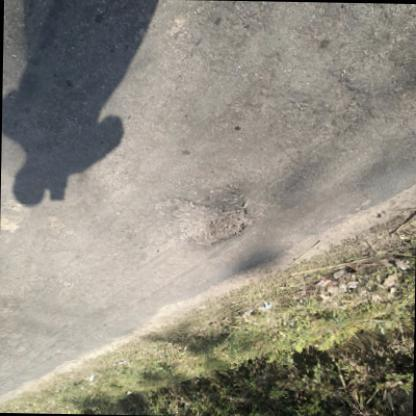pothole: (164, 194, 251, 249)
